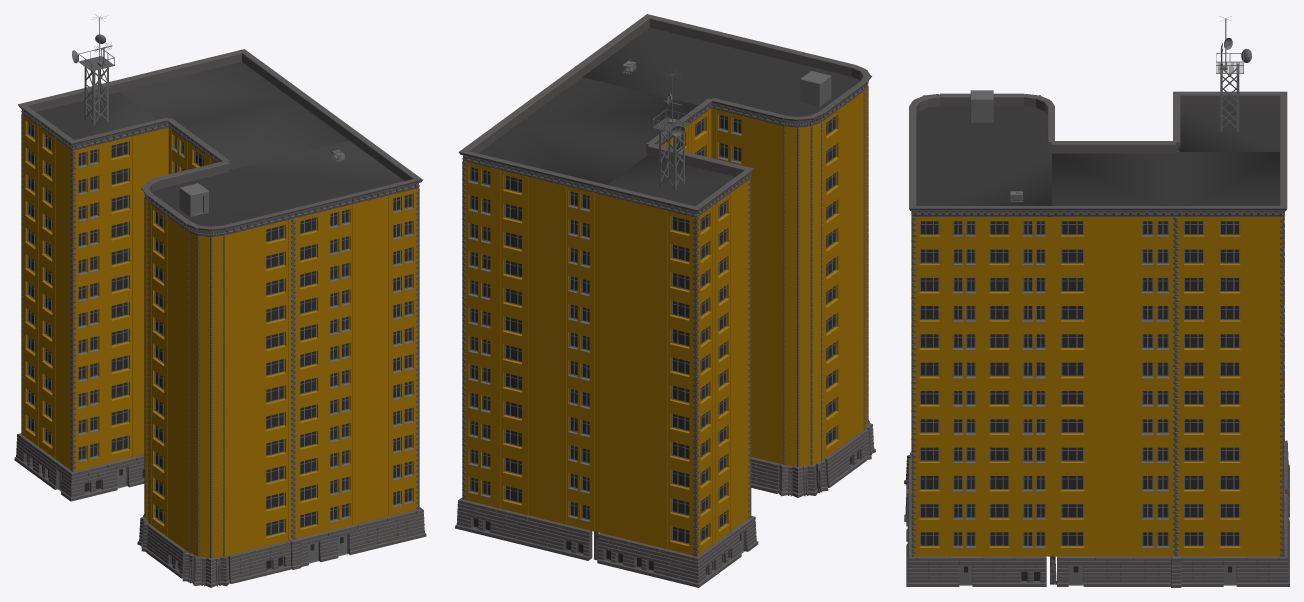
The model's file is Building3.fbx.
3 renders of one model, left to right at view 1: azimuth 30°, elevation 25°; view 2: azimuth 150°, elevation 25°; view 3: azimuth 270°, elevation 25°, orthographic. The views are drawn at different scales.
Parts seen in each view (by area): view 1: ground_floor_wall_01.007; view 2: ground_floor_wall_01.007; view 3: ground_floor_wall_01.007.
Boxes of the visible parts, bbox=[...] form: ground_floor_wall_01.007: bbox=[14, 14, 426, 587]; ground_floor_wall_01.007: bbox=[455, 14, 875, 587]; ground_floor_wall_01.007: bbox=[904, 16, 1289, 587].
Size of the model in its own units: 2734 by 5068 by 3708.
